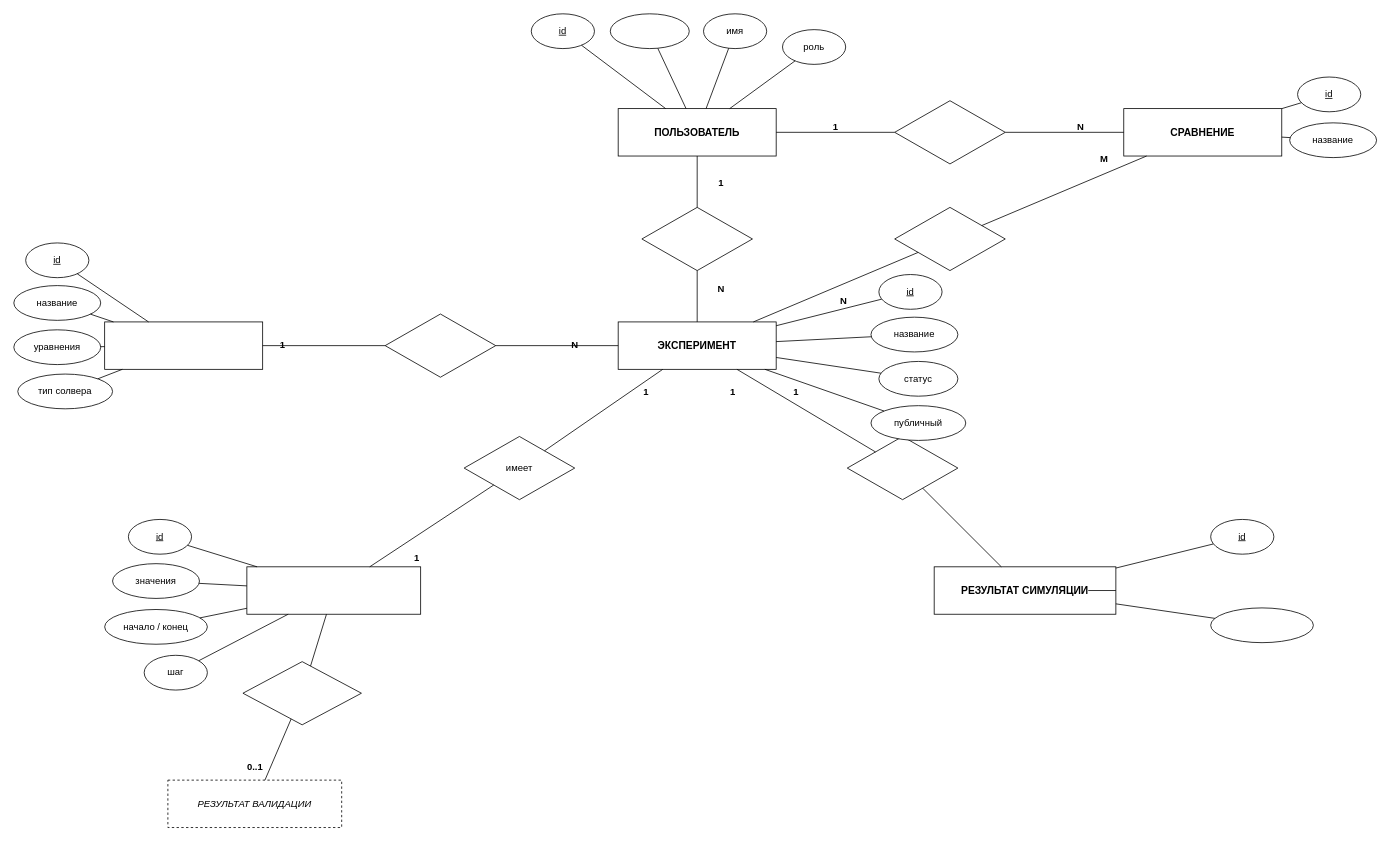
This 1390x841 diagram has some shape labels left out. Here are the shapes that lost their labels. From the top down, the centre of each, then its label:
point 649,31: email
point 949,132: создаёт
point 696,239: проводит
point 949,239: включает
point 183,345: ШАБЛОН МОДЕЛИ
point 440,345: использует
point 902,468: порождает
point 333,590: НАБОР ПАРАМЕТРОВ
point 1261,625: результат
point 301,693: проверяется через
